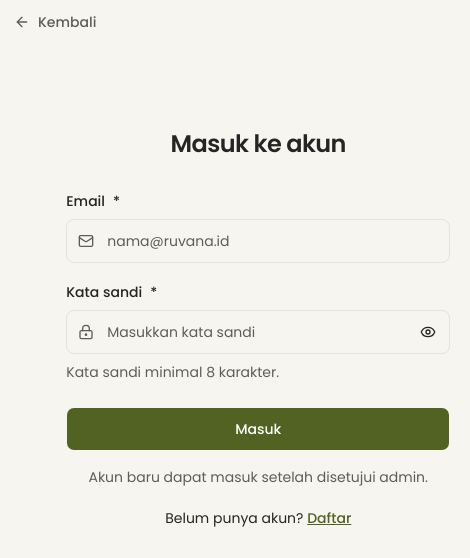
Test: menampilkan error email di bawah field tanpa mengirim request
The width and height of the screenshot is (470, 558).
In the field labelled "Email *": (258, 241) [66,219,450,263], type "ayu@invalid"
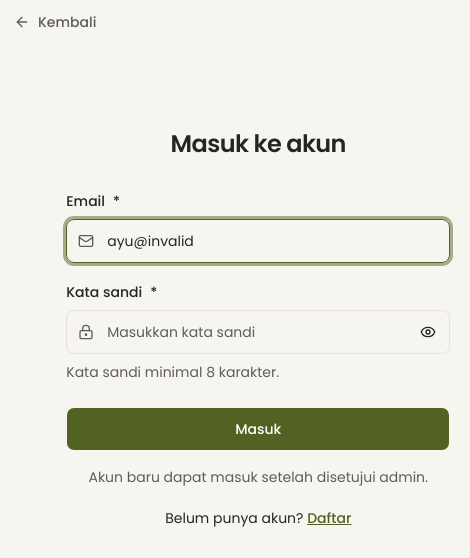
In the password field labelled "Kata sandi *": (258, 332) [66,310,450,354], type "rahasia123"
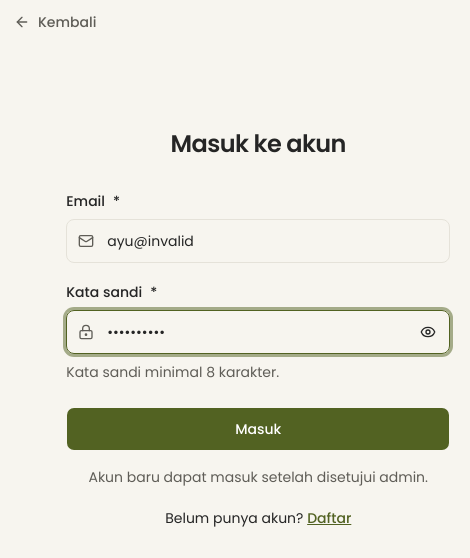
Click the button "Masuk": click(258, 429) [66,407,450,451]
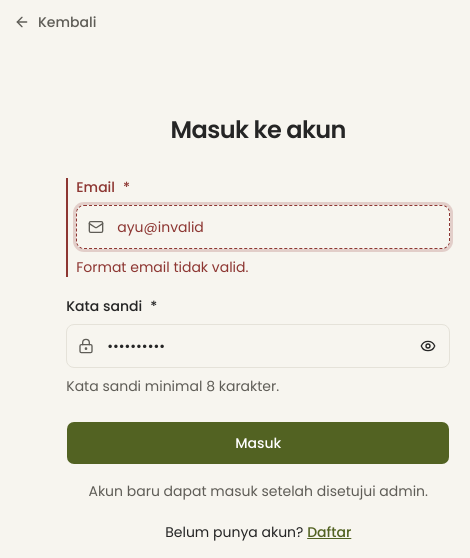
Now the text "Format email tidak valid." is shown, box [76,257,248,277]
